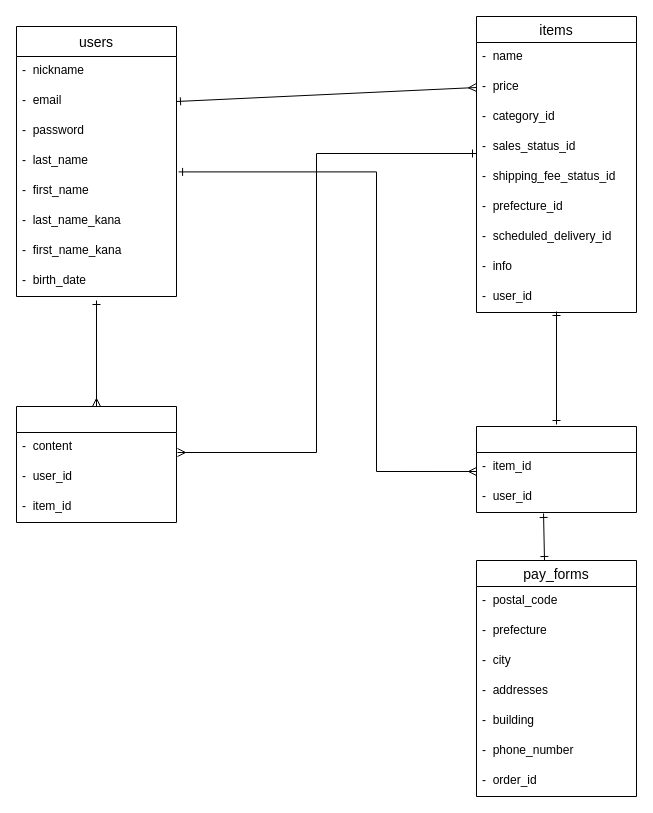
Image size: 653x813. Some labels were removed from this diagram. Here are the shapes that lost their labels. From the top down, the box of each, then its label:
(16, 406, 176, 522): comments
(476, 426, 636, 512): orders
